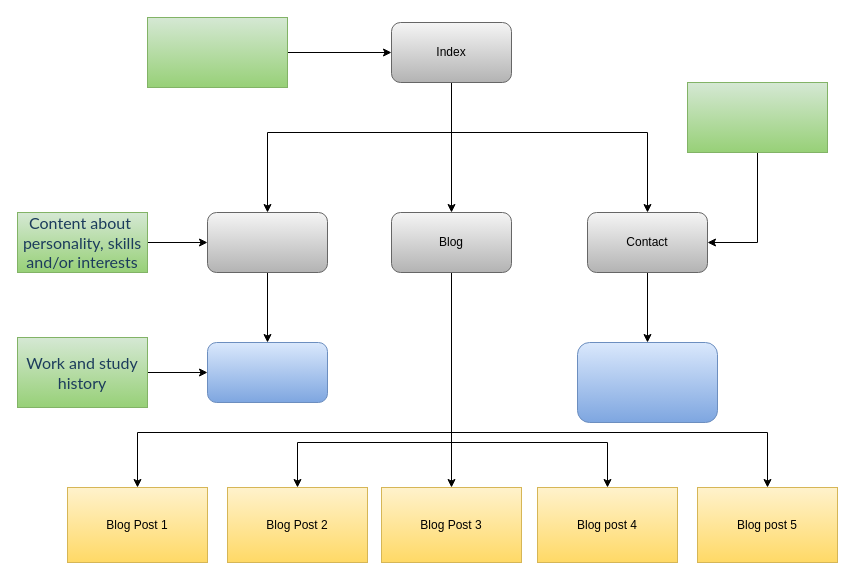
This 855x580 diagram has some shape labels left out. Each missing label, with the centre of its shape:
About: the point at 267,242
Contact details: the point at 757,117
Links to professional accounts Github, LinkedIn & Email: the point at 647,382
Links to resume.pdf: the point at 267,372
Portfolio intro: the point at 217,52
